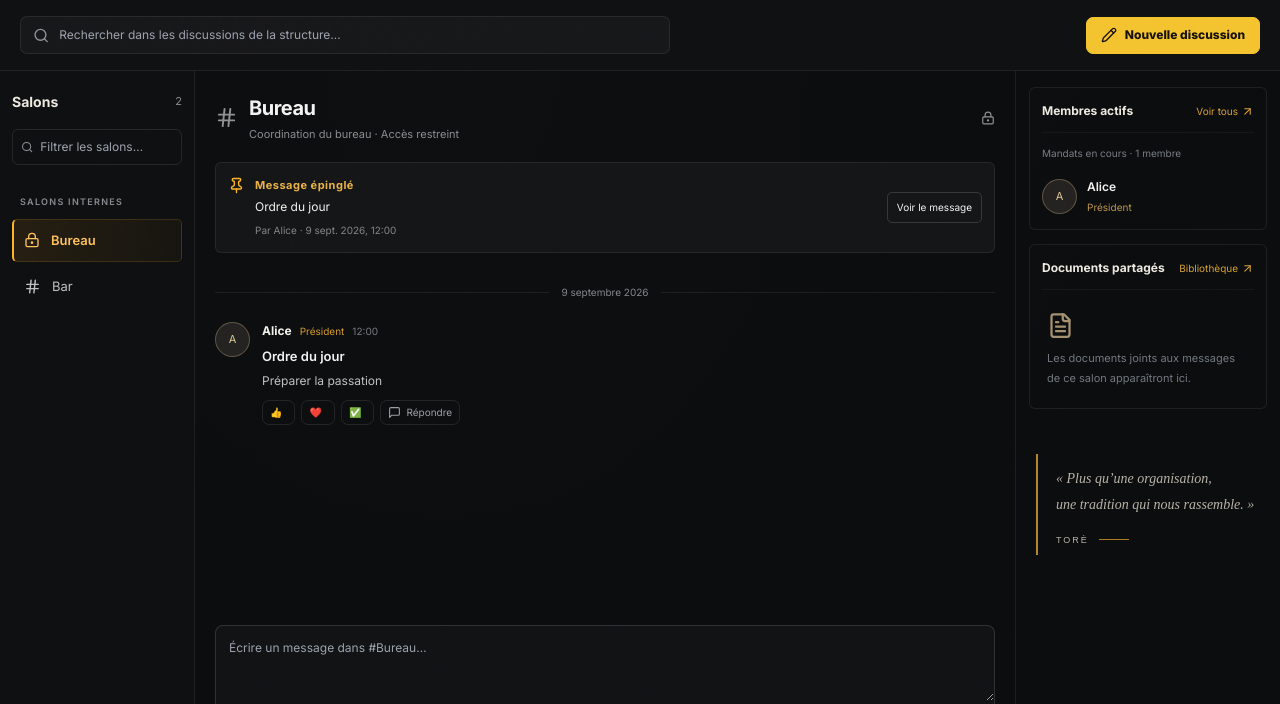
Test: Discussions workspace › restricts management controls and opens a real thread reply form
Later steps or results of the test are not shown.
Check: the heading "Bureau" is shown, box [249,96,316,120]
Click the button "Répondre". click: (420,413)
box: [380,400,460,425]
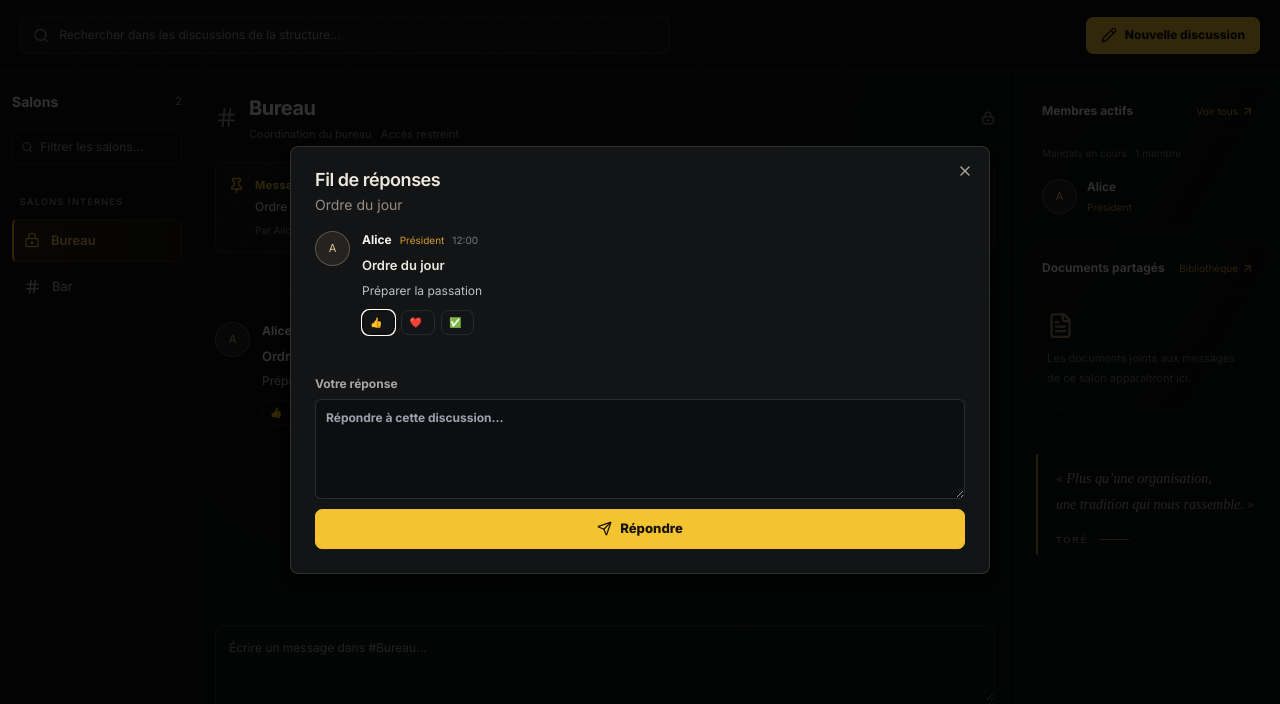
Check: the dialog is shown, box [290,146,990,574]
